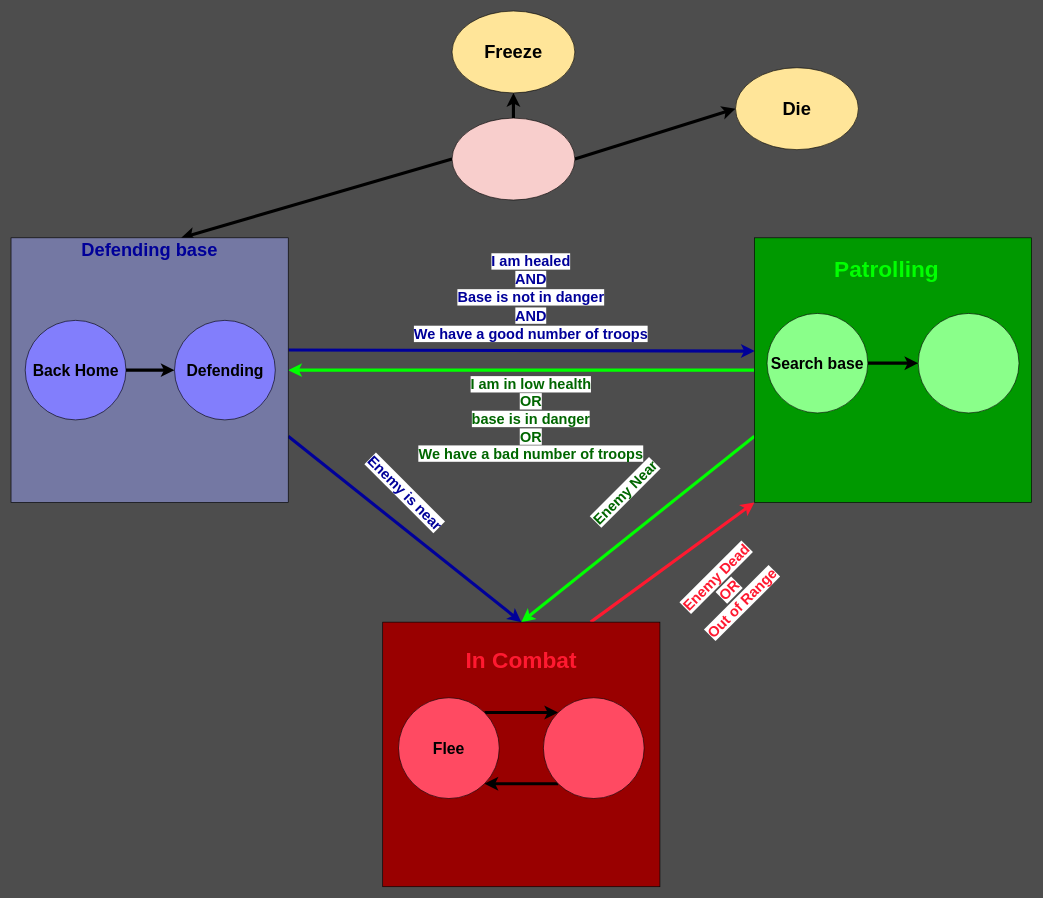
Some shapes in this 1043 by 898 pixel diagram are drawn without their labels. Here are the shapes that lost their labels. From the top down, the centre of each, then its label:
At (x=513, y=158): "Mosquito".
At (x=968, y=363): "Go to enemy base".
At (x=593, y=748): "Attack".
